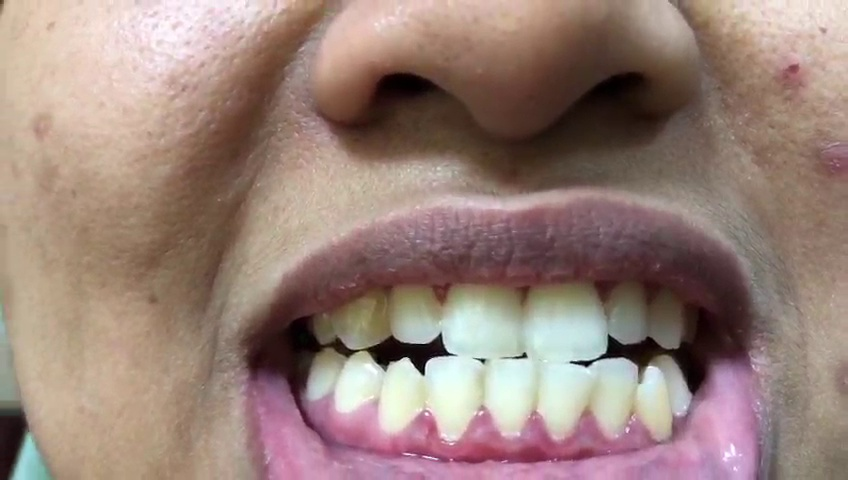1st Premolar: (335, 345, 384, 414), (652, 355, 693, 421)
2nd Premolar: (305, 345, 344, 402)
Canine: (378, 355, 425, 439), (333, 277, 387, 350), (635, 365, 676, 445), (648, 284, 684, 351)
Central Incisor: (524, 270, 607, 361), (441, 271, 524, 357), (482, 358, 538, 440), (538, 358, 590, 444)
Lateral Incisor: (427, 354, 481, 446), (590, 359, 637, 443), (389, 274, 441, 344), (610, 277, 650, 346)
